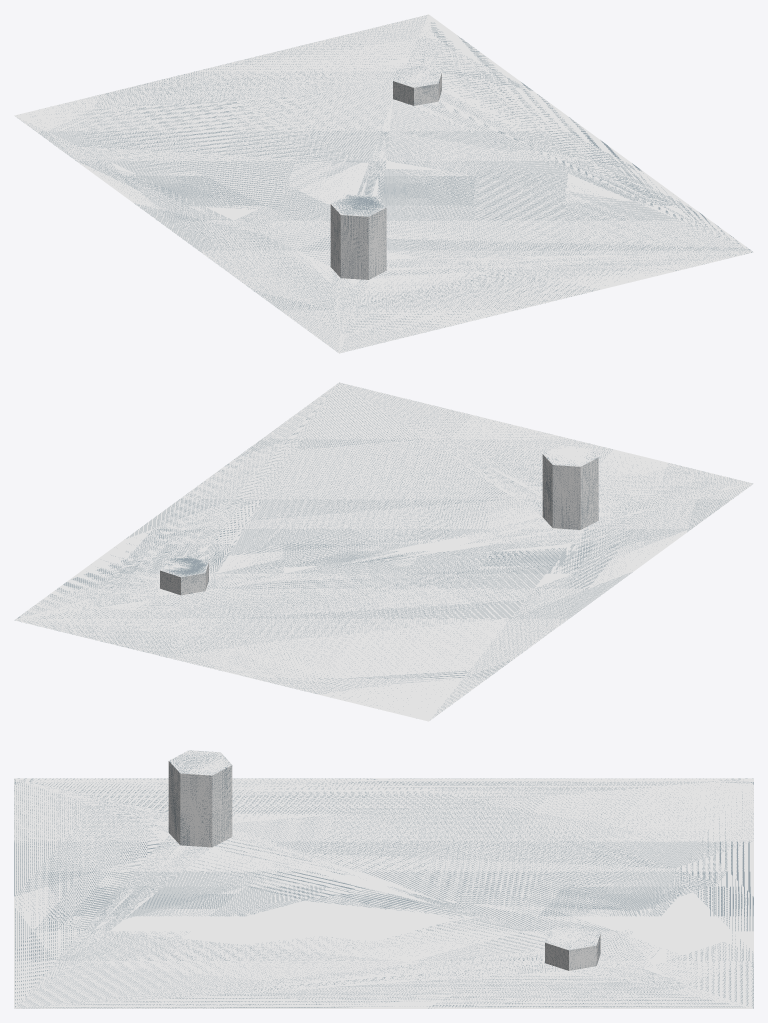
File: EnvironmentTest.fbx
The picture shows the model from 3 angles, top to bottom: view 1: azimuth 30°, elevation 25°; view 2: azimuth 150°, elevation 25°; view 3: azimuth 270°, elevation 25°; orthographic projection. The views are drawn at different scales.
Parts seen in each view (by area): view 1: Model; view 2: Model; view 3: Model.
Boxes of the visible parts, left/top/right/bottom form: Model: left=14, top=14, right=753, bottom=353; Model: left=14, top=382, right=753, bottom=721; Model: left=14, top=750, right=753, bottom=1008.
Size of the model in its own units: 26.18 by 3.81 by 35.54.
